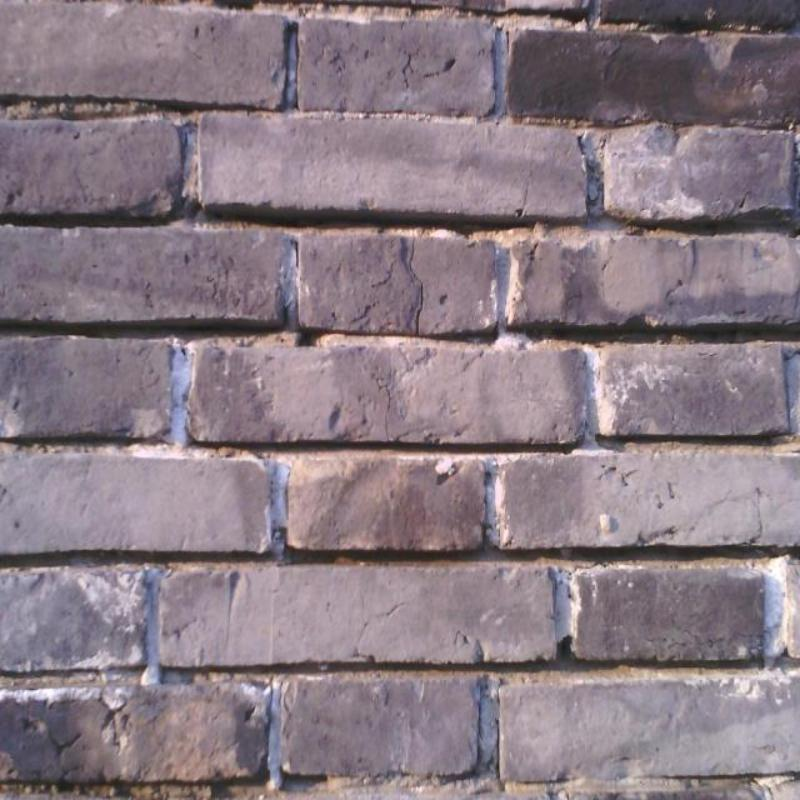pothole: (409, 239, 424, 336), (300, 334, 310, 344)
